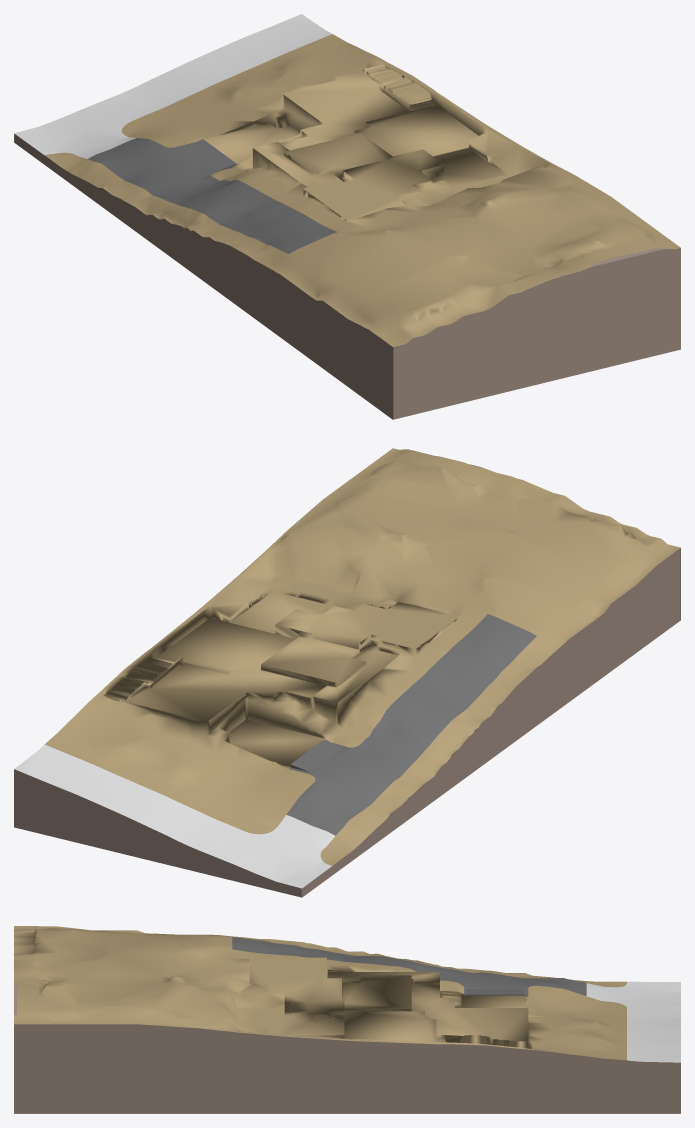
Rendered from site.glb.
3 views of the same model, one above another, from view 1: azimuth 30°, elevation 25°; view 2: azimuth 150°, elevation 25°; view 3: azimuth 270°, elevation 25° (orthographic). The views are drawn at different scales.
Visible parts, largest first — view 1: Site-Grass.001, Earth, Driveway, Road; view 2: Site-Grass.001, Earth, Driveway, Road; view 3: Earth, Site-Grass.001, Road, Driveway.
Boxes of the visible parts, <box> form: Site-Grass.001: <box>45,34,680,346</box>; Earth: <box>14,75,680,419</box>; Driveway: <box>88,138,337,253</box>; Road: <box>14,14,331,158</box>; Site-Grass.001: <box>45,448,680,865</box>; Earth: <box>14,449,680,897</box>; Driveway: <box>286,614,536,835</box>; Road: <box>14,744,334,888</box>; Earth: <box>14,951,680,1113</box>; Site-Grass.001: <box>14,926,626,1060</box>; Road: <box>586,981,680,1062</box>; Driveway: <box>232,937,586,996</box>.
Bounding box in the file's own units: 31.09 × 11.51 × 70.85.
